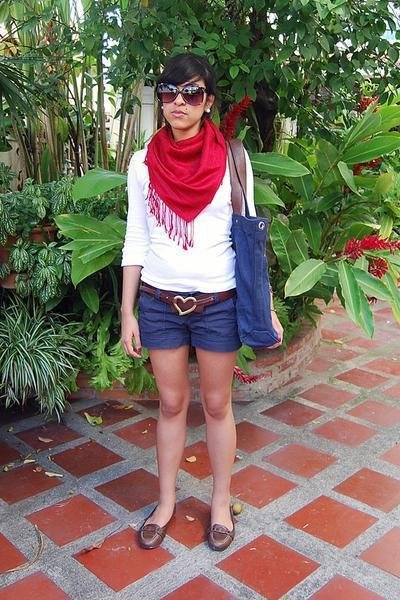bag: (221, 123, 276, 346)
shirt: (122, 143, 256, 292)
shoe: (136, 518, 229, 551)
shorts: (133, 302, 251, 362)
sunglass: (144, 72, 212, 107)
